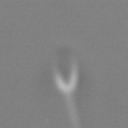normal: (61, 93, 86, 128)
